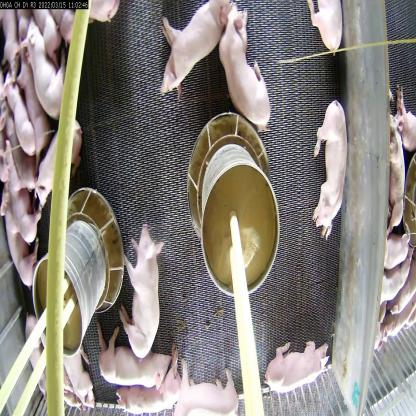Pig: (159, 0, 235, 103), (118, 213, 169, 363), (220, 1, 274, 132), (90, 311, 170, 396), (312, 88, 349, 242), (20, 13, 70, 119), (114, 346, 183, 416), (0, 183, 40, 295), (172, 351, 240, 415), (0, 136, 43, 237), (263, 330, 330, 392), (381, 96, 407, 238), (1, 68, 38, 159), (55, 338, 92, 412), (305, 0, 348, 56)
